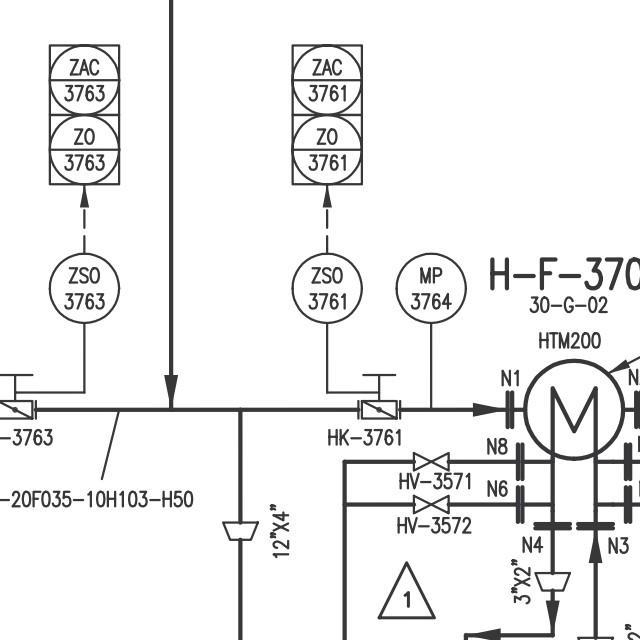BV: (353, 367, 406, 426), (0, 367, 43, 424)
GV: (407, 490, 452, 517), (407, 449, 451, 472)
HE: (526, 359, 623, 456)
SP: (215, 515, 263, 545), (530, 569, 575, 593)
